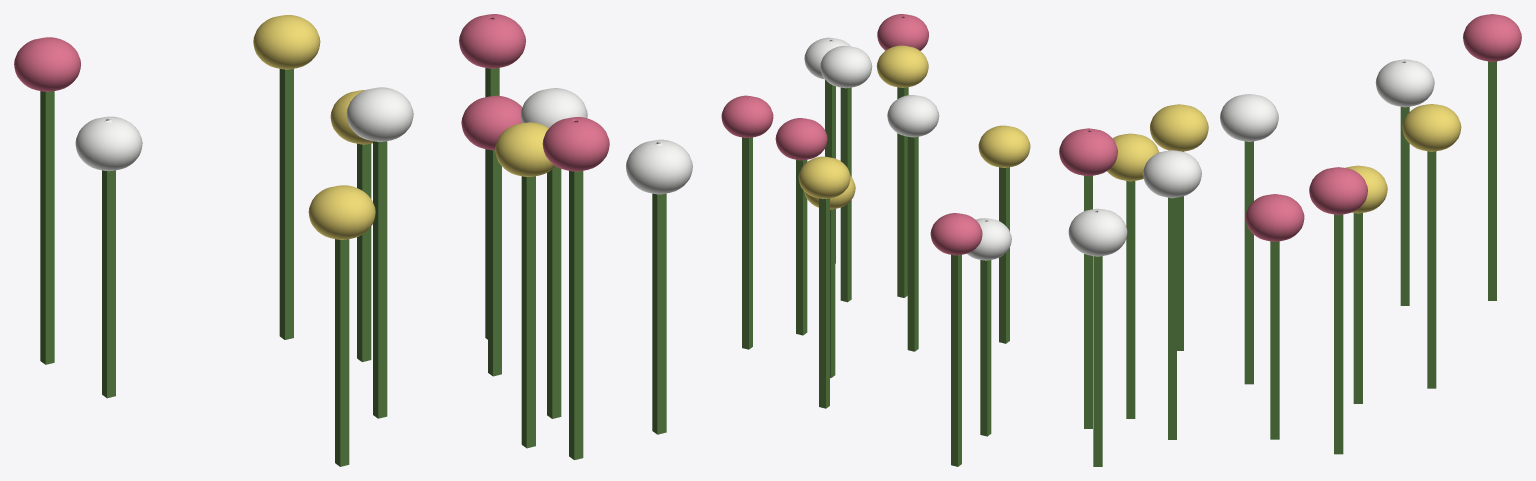
File: f19-flower-meadow-patch.glb
3 views of the same model, side by side, from view 1: azimuth 30°, elevation 25°; view 2: azimuth 150°, elevation 25°; view 3: azimuth 270°, elevation 25° (orthographic). The views are drawn at different scales.
Visible parts, largest first — view 1: part0, part1, part6, part12, part4, part8, part3, part11, part2, part10, part5, part9 (+1 smaller); view 2: part0, part4, part1, part2, part5, part10, part11, part9, part3, part8, part6, part12 (+1 smaller); view 3: part0, part5, part6, part2, part4, part9, part12, part3, part8, part11, part1, part10 (+1 smaller).
Part boxes in pixels (bbox=[...]): part0: bbox=[40, 68, 666, 466]; part1: bbox=[308, 185, 375, 239]; part6: bbox=[75, 116, 142, 171]; part12: bbox=[626, 139, 692, 194]; part4: bbox=[253, 15, 320, 69]; part8: bbox=[542, 117, 609, 171]; part3: bbox=[346, 87, 413, 141]; part11: bbox=[14, 37, 80, 91]; part2: bbox=[459, 14, 525, 68]; part10: bbox=[495, 122, 554, 176]; part5: bbox=[461, 95, 522, 150]; part9: bbox=[520, 88, 587, 127]; part0: bbox=[742, 79, 1009, 466]; part4: bbox=[798, 156, 850, 198]; part1: bbox=[978, 125, 1030, 167]; part2: bbox=[721, 95, 773, 137]; part5: bbox=[775, 118, 827, 160]; part10: bbox=[876, 45, 928, 87]; part11: bbox=[930, 213, 982, 255]; part9: bbox=[820, 45, 872, 88]; part3: bbox=[887, 95, 939, 137]; part8: bbox=[877, 14, 928, 50]; part6: bbox=[967, 218, 1011, 260]; part12: bbox=[804, 37, 850, 79]; part0: bbox=[1084, 61, 1496, 466]; part5: bbox=[1245, 194, 1304, 241]; part6: bbox=[1375, 59, 1434, 107]; part2: bbox=[1309, 167, 1367, 215]; part4: bbox=[1402, 104, 1461, 151]; part9: bbox=[1143, 150, 1201, 198]; part12: bbox=[1068, 208, 1127, 256]; part3: bbox=[1220, 94, 1278, 141]; part8: bbox=[1059, 128, 1117, 176]; part11: bbox=[1463, 14, 1521, 61]; part1: bbox=[1150, 104, 1208, 151]; part10: bbox=[1107, 133, 1159, 181].
Size of the model in its own units: 689 by 498 by 706.
